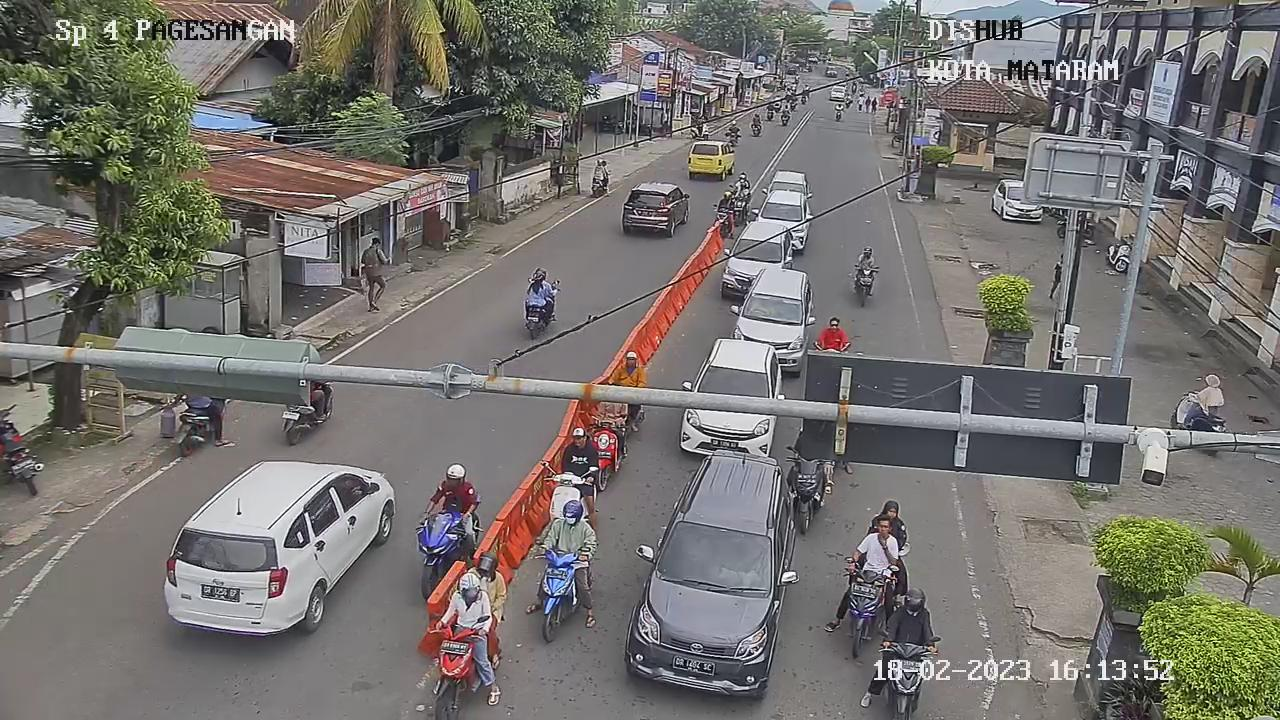car: (626, 453, 806, 697), (161, 462, 397, 638), (674, 334, 788, 465), (725, 268, 818, 376), (720, 219, 797, 306), (619, 180, 689, 237), (754, 189, 812, 252), (689, 140, 739, 180), (763, 169, 811, 206)
motorbike: (413, 611, 491, 720), (520, 535, 593, 646), (834, 549, 899, 662), (404, 507, 474, 604), (537, 457, 598, 533), (777, 445, 828, 533), (580, 416, 629, 489), (850, 261, 878, 306), (712, 203, 737, 238), (729, 195, 747, 221)
person: (438, 568, 497, 636), (534, 501, 598, 560), (420, 462, 481, 520), (850, 514, 902, 581), (1175, 377, 1229, 433), (555, 425, 601, 479), (604, 349, 647, 392), (521, 266, 553, 309), (818, 322, 853, 352), (853, 243, 878, 271), (730, 171, 753, 195), (716, 188, 734, 213), (592, 156, 608, 179), (724, 119, 742, 136), (748, 111, 763, 128)
